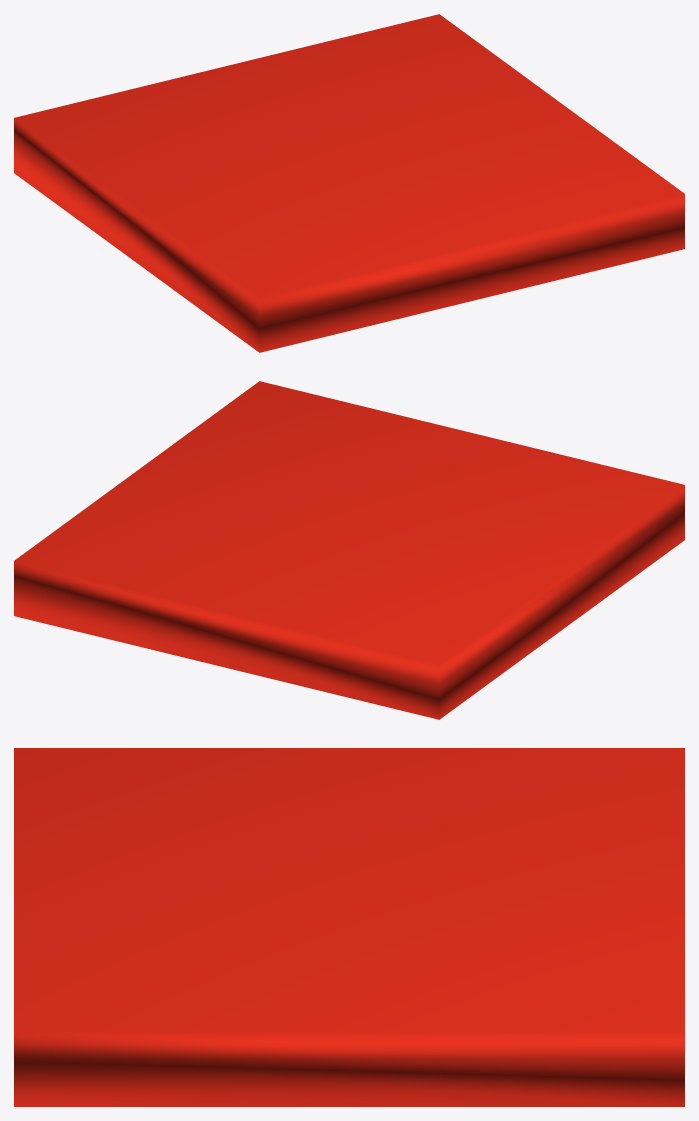
File: Tomate.glb
3 renders of one model, top to bottom at view 1: azimuth 30°, elevation 25°; view 2: azimuth 150°, elevation 25°; view 3: azimuth 270°, elevation 25°, orthographic. The views are drawn at different scales.
Parts seen in each view (by area): view 1: Tomate; view 2: Tomate; view 3: Tomate.
Part boxes in pixels (bbox=[...]): Tomate: bbox=[14, 14, 684, 352]; Tomate: bbox=[14, 381, 684, 719]; Tomate: bbox=[14, 748, 684, 1106].
Bounding box in the file's own units: 2.04 × 0.2531 × 2.04.
